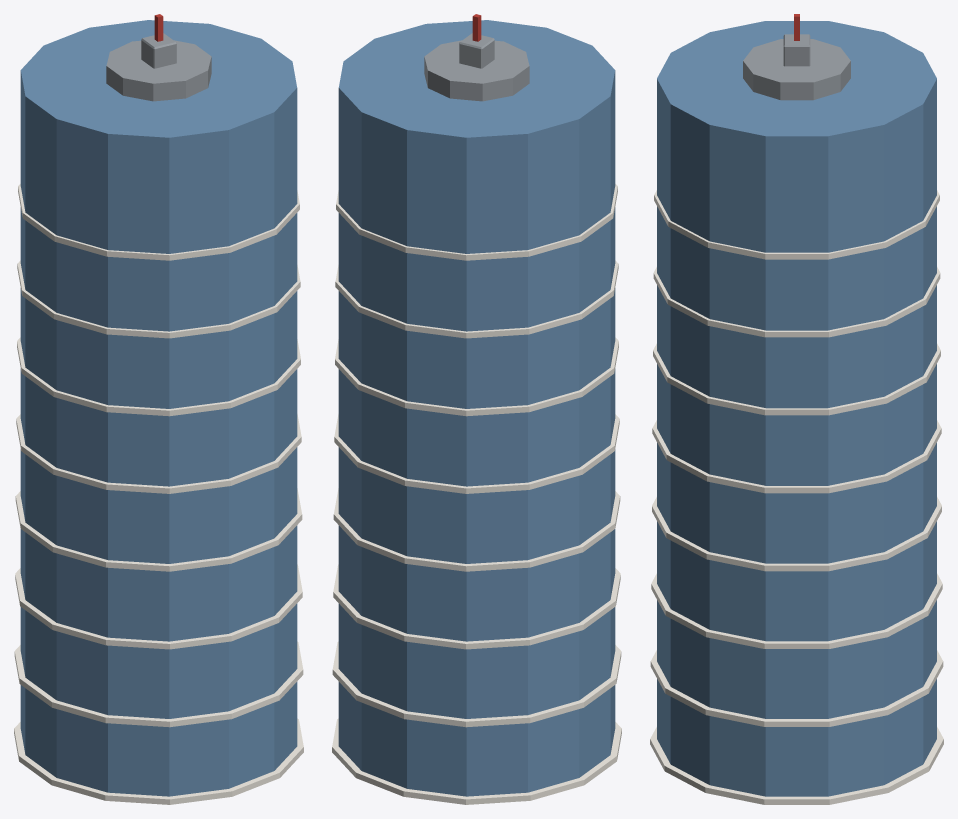
File: tower_slat_h60.glb
3 views of the same model, side by side, from view 1: azimuth 30°, elevation 25°; view 2: azimuth 150°, elevation 25°; view 3: azimuth 270°, elevation 25° (orthographic).
Visible parts, largest first — view 1: core, crown, slat, slat.001, slat.002, slat.003, slat.004, slat.005, slat.006, slat.007, mast; view 2: core, crown, slat, slat.001, slat.002, slat.003, slat.004, slat.005, slat.006, slat.007, mast; view 3: core, crown, slat, slat.001, slat.002, slat.003, slat.004, slat.005, slat.006, slat.007, mast.
Boxes of the visible parts, box(x1,y1,x2,y2) form: core: box(20, 20, 297, 796); crown: box(106, 40, 211, 101); slat: box(14, 718, 303, 804); slat.001: box(14, 641, 303, 727); slat.002: box(15, 564, 302, 649); slat.003: box(15, 488, 302, 571); slat.004: box(16, 414, 301, 493); slat.005: box(17, 337, 300, 416); slat.006: box(17, 260, 300, 338); slat.007: box(18, 184, 299, 260); mast: box(141, 33, 176, 68); core: box(338, 20, 615, 796); crown: box(424, 40, 529, 101); slat: box(332, 718, 621, 804); slat.001: box(332, 641, 621, 727); slat.002: box(333, 564, 620, 649); slat.003: box(333, 488, 620, 571); slat.004: box(334, 414, 619, 493); slat.005: box(335, 337, 618, 416); slat.006: box(335, 260, 618, 338); slat.007: box(336, 184, 617, 260); mast: box(459, 33, 494, 68); core: box(657, 21, 936, 796); crown: box(743, 39, 850, 100); slat: box(650, 727, 943, 804); slat.001: box(650, 650, 943, 726); slat.002: box(651, 573, 942, 648); slat.003: box(652, 497, 941, 571); slat.004: box(652, 420, 941, 493); slat.005: box(653, 343, 940, 415); slat.006: box(653, 267, 940, 337); slat.007: box(654, 190, 939, 259); mast: box(783, 34, 810, 66).
Size of the model in its own units: 23.38 by 65.7 by 23.98.
